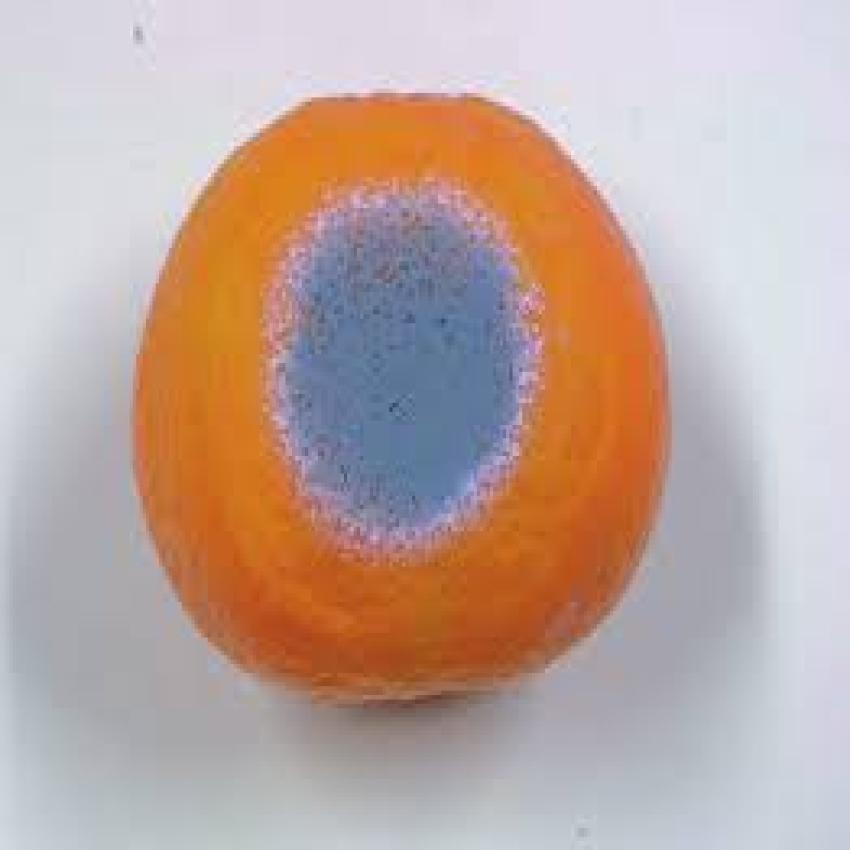Mal estado: (102, 58, 700, 741)
